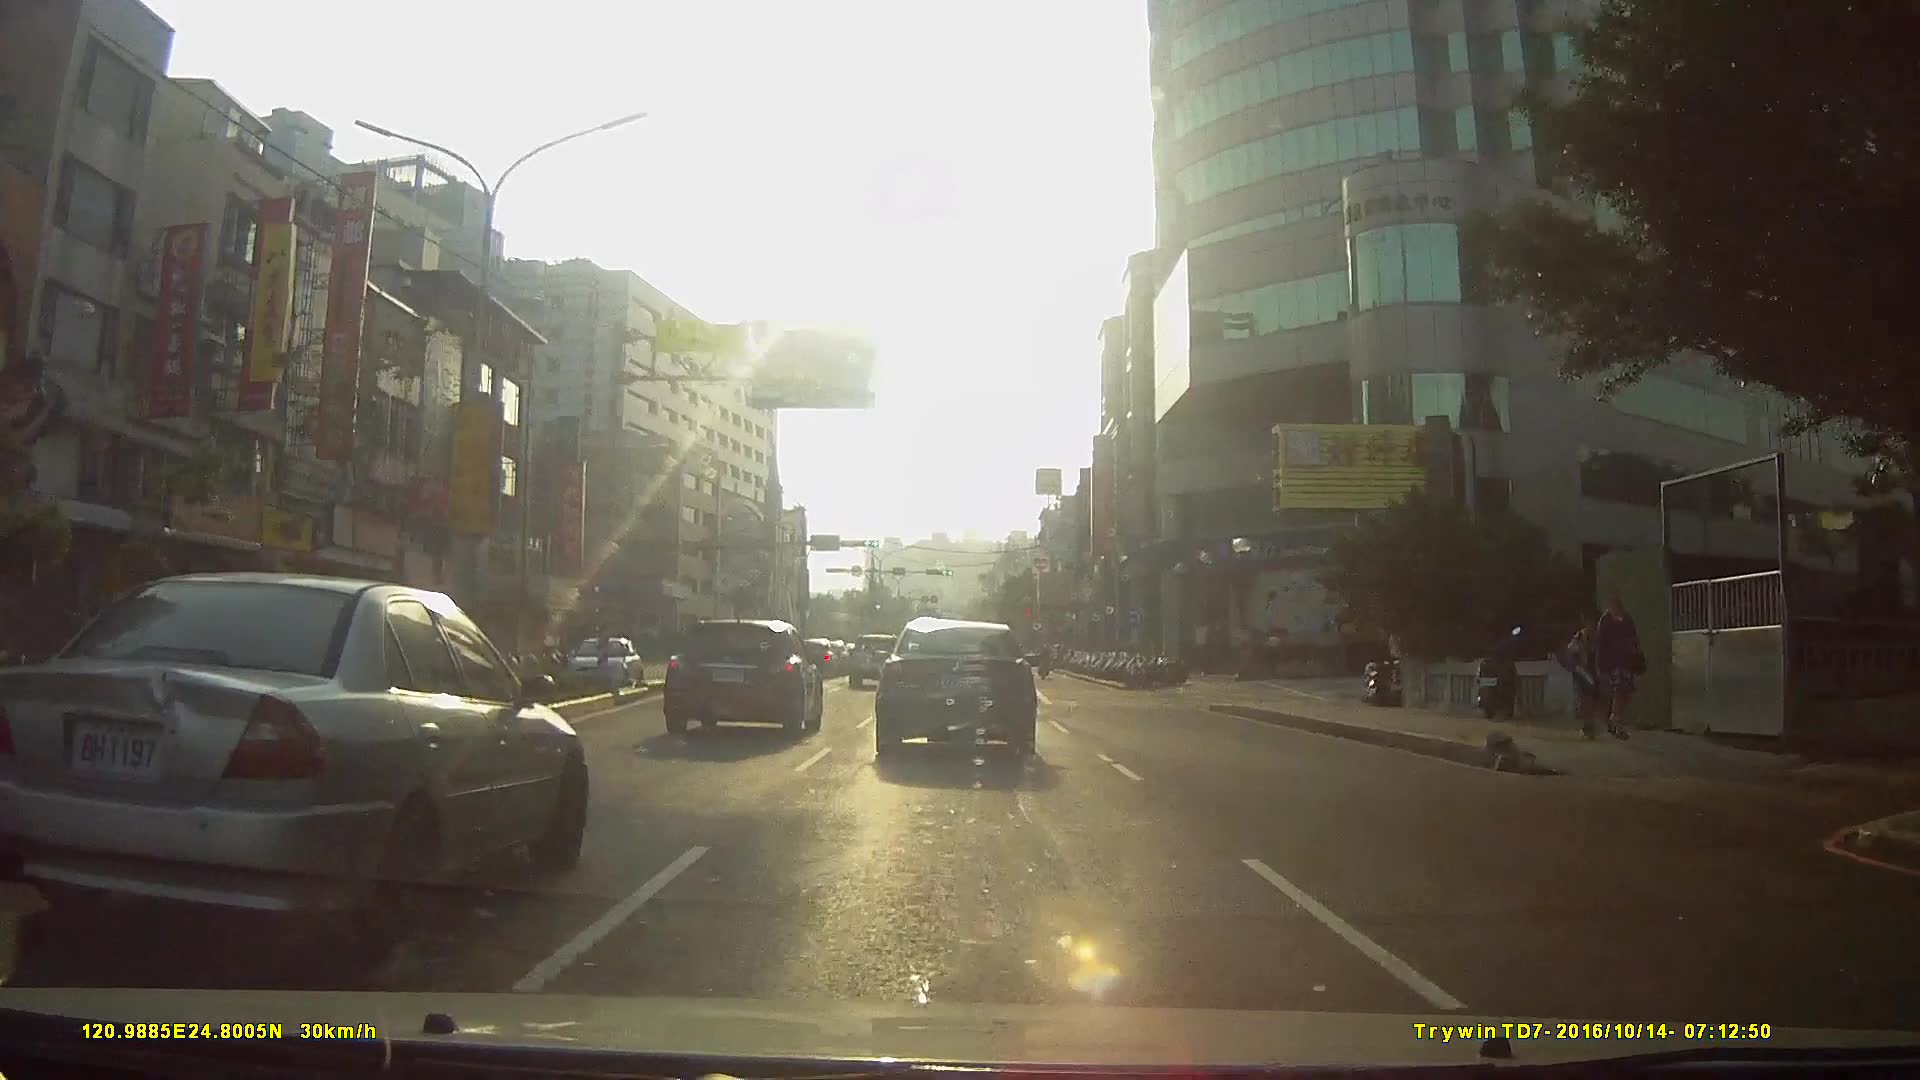pedestrian: (1589, 585, 1647, 735), (1561, 605, 1620, 741)
vehicle: (0, 568, 589, 950), (871, 615, 1036, 761), (661, 614, 823, 738), (562, 635, 647, 699), (844, 632, 904, 688)
